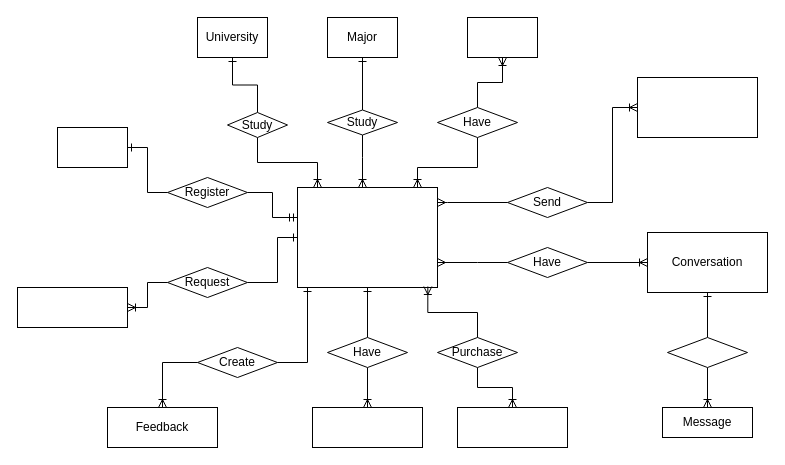
Image size: 785x465. Some labels were removed from this diagram. The centre of each missing label's shape, as x and y in pixels:
Account: the point at 92,147
Authentication: the point at 72,307
Contain: the point at 707,352
Hobby: the point at 502,37
MatchRequest: the point at 697,107
Member: the point at 367,237
Package: the point at 512,427
Picture: the point at 367,427
